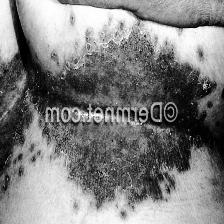Toxin: (46, 128, 206, 218), (42, 37, 208, 100), (0, 60, 32, 198)
